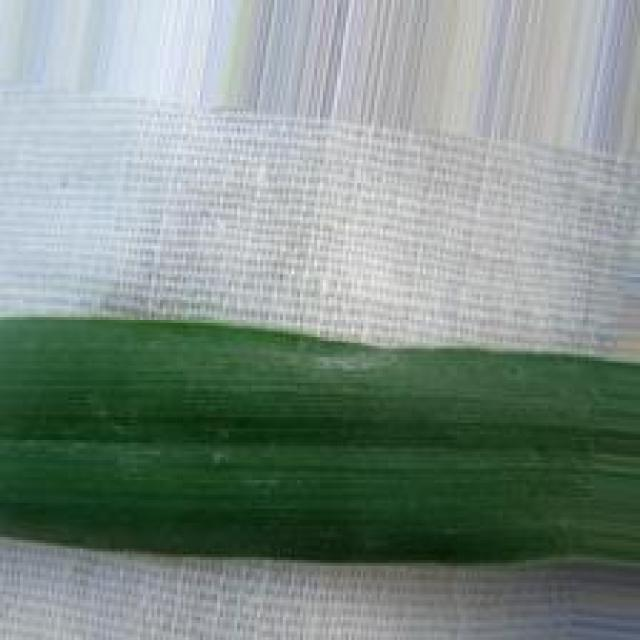Healthy: (0, 316, 640, 571)
